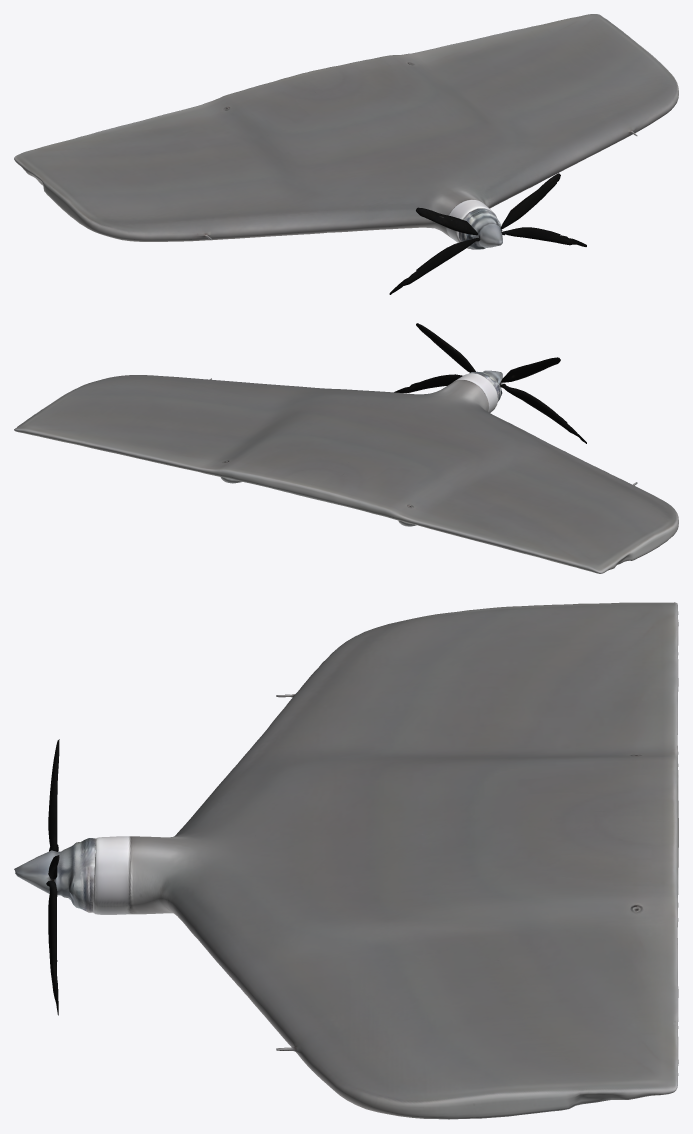
The model's file is Zala421.glb.
3 renders of one model, top to bottom at view 1: azimuth 30°, elevation 25°; view 2: azimuth 150°, elevation 25°; view 3: azimuth 270°, elevation 25°, orthographic. The views are drawn at different scales.
Parts seen in each view (by area): view 1: Object_2, Object_3; view 2: Object_2, Object_3; view 3: Object_2, Object_3.
Part boxes in pixels (x1=…): Object_2: x1=14, y1=14, x2=678, y2=248; Object_3: x1=389, y1=173, x2=586, y2=294; Object_2: x1=14, y1=373, x2=678, y2=573; Object_3: x1=220, y1=323, x2=586, y2=526; Object_2: x1=93, y1=602, x2=678, y2=1119; Object_3: x1=14, y1=739, x2=95, y2=1015.
Bounding box in the file's own units: 1.89 × 0.2461 × 1.09.
1 material, 1 textured.
